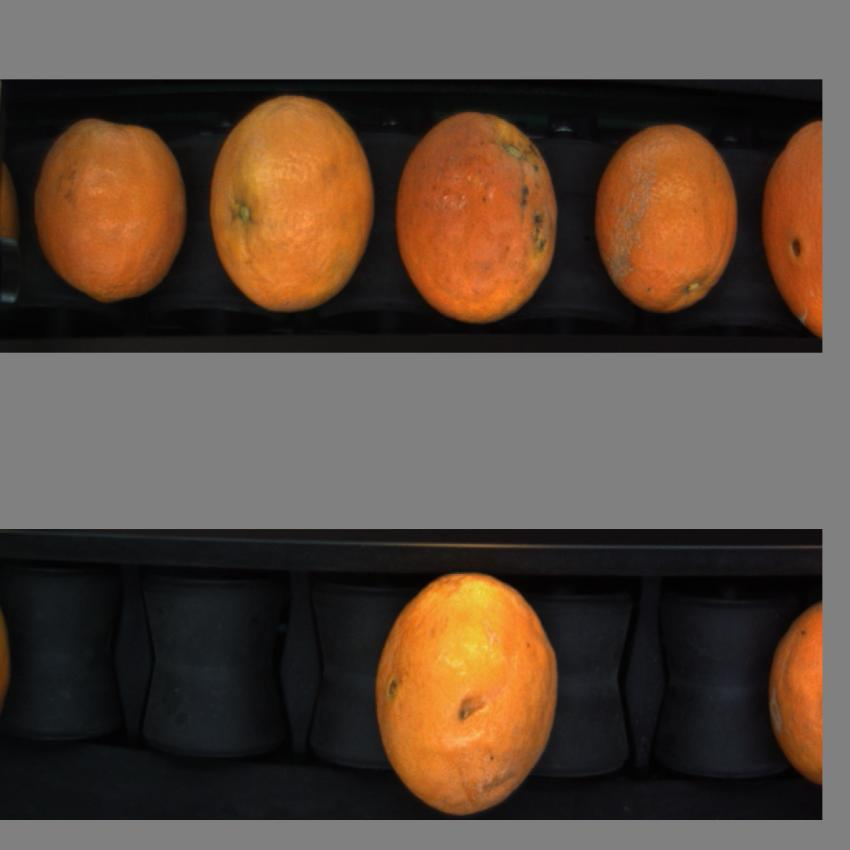Buen estado: (373, 558, 565, 816), (206, 92, 380, 322), (760, 110, 824, 342), (764, 591, 822, 785)
Mal estado: (392, 101, 561, 324), (589, 117, 742, 320), (33, 110, 190, 302)
